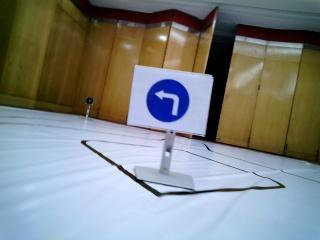left: (136, 66, 205, 131)
